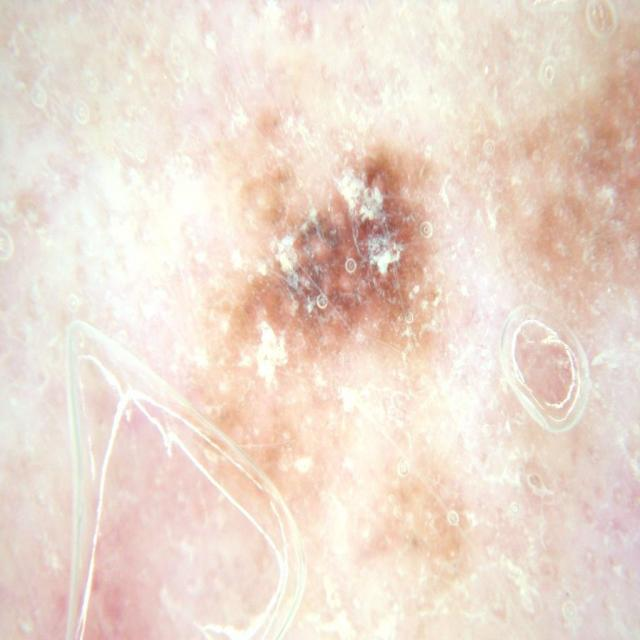Skin-Cancer Melanoma: (85, 43, 609, 638)
